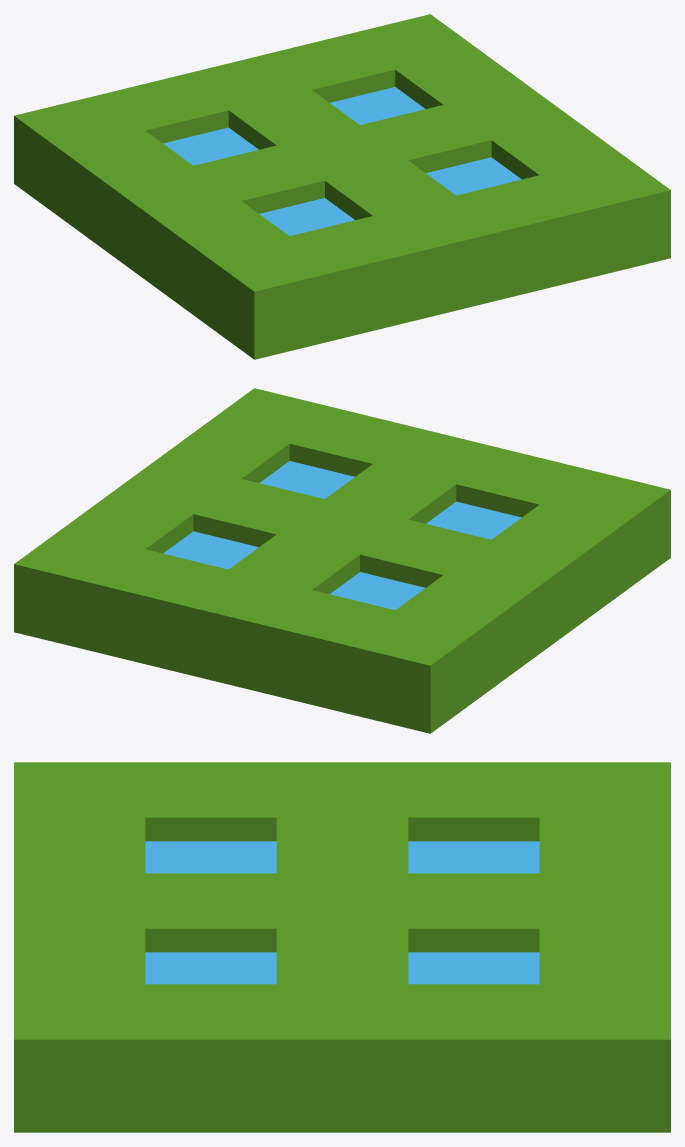
Rendered from Ground.fbx.
The picture shows the model from 3 angles, top to bottom: view 1: azimuth 30°, elevation 25°; view 2: azimuth 150°, elevation 25°; view 3: azimuth 270°, elevation 25°; orthographic projection. The views are drawn at different scales.
Parts seen in each view (by area): view 1: Ground; view 2: Ground; view 3: Ground.
Part boxes in pixels (x1,y1,x2,y2): Ground: (14,14,670,359); Ground: (14,388,670,733); Ground: (14,762,670,1132).
Bounding box in the file's own units: 20000 × 3124 × 20000.
